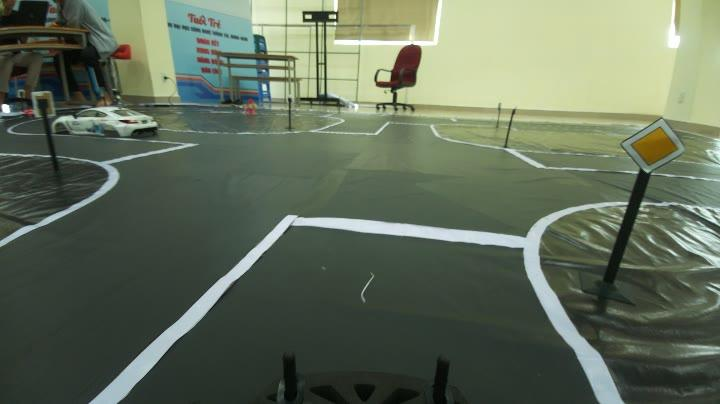priority: (620, 115, 684, 180)
